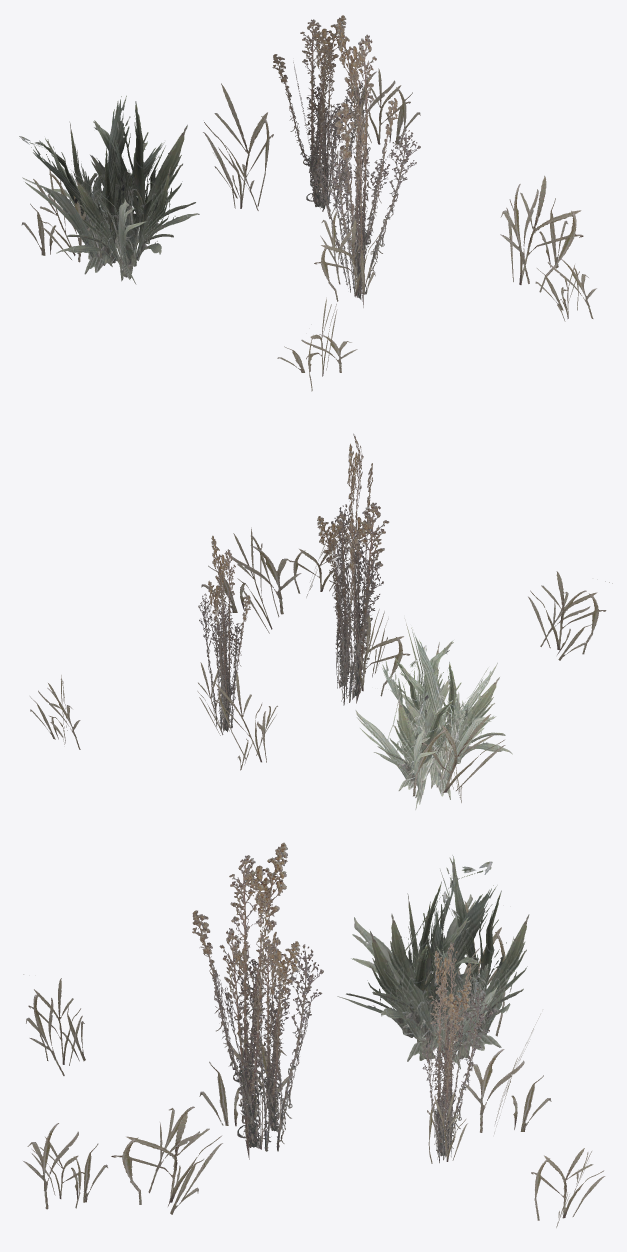
The model's file is prop_dryweed_001_a.FBX.
3 renders of one model, top to bottom at view 1: azimuth 30°, elevation 25°; view 2: azimuth 150°, elevation 25°; view 3: azimuth 270°, elevation 25°, orthographic. The views are drawn at different scales.
Parts seen in each view (by area): view 1: prop_dryweed_001_a; view 2: prop_dryweed_001_a; view 3: prop_dryweed_001_a.
Part boxes in pixels (x1,y1,x2,y2): prop_dryweed_001_a: (19, 15, 596, 391); prop_dryweed_001_a: (30, 433, 612, 809); prop_dryweed_001_a: (23, 842, 605, 1227).
Bounding box in the file's own units: 1.88 × 1.9 × 1.1.
Materials: 1 (1 with a texture image).
